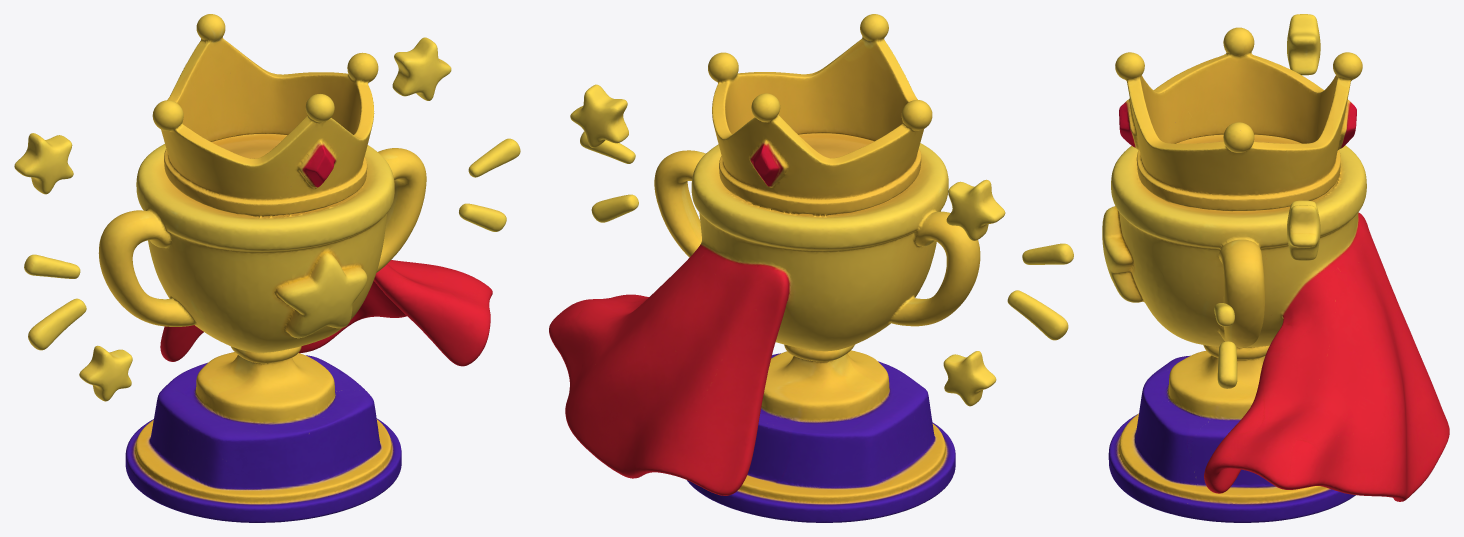
File: goal_trophy.glb
The picture shows the model from 3 angles, left to right: view 1: azimuth 30°, elevation 25°; view 2: azimuth 150°, elevation 25°; view 3: azimuth 270°, elevation 25°; orthographic projection.
Bounding box in the file's own units: 1.9 × 1.52 × 1.16.
Materials: 1 (1 with a texture image).
